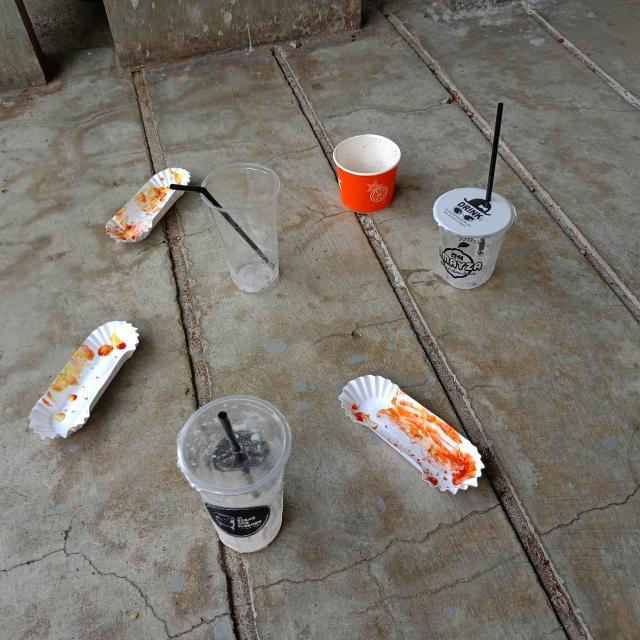recyclable waste: (168, 386, 297, 560), (330, 366, 492, 502), (19, 312, 150, 448), (192, 154, 289, 299), (424, 179, 524, 297), (96, 160, 200, 250), (324, 126, 410, 220)
